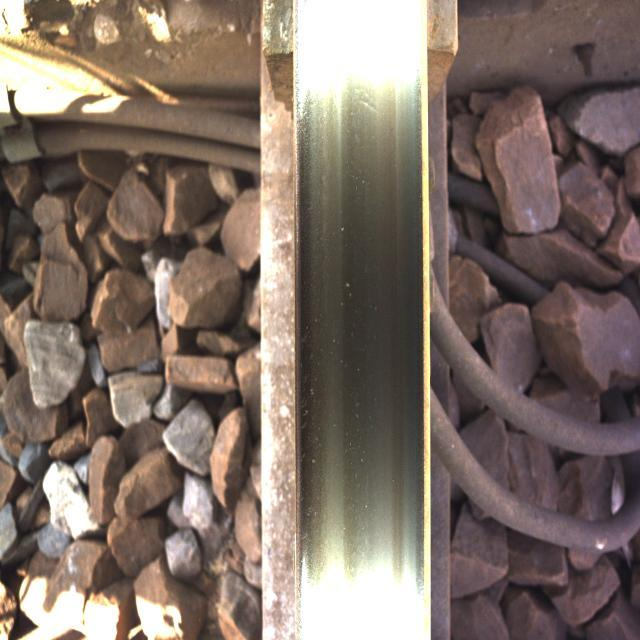break: (311, 51, 414, 616)
